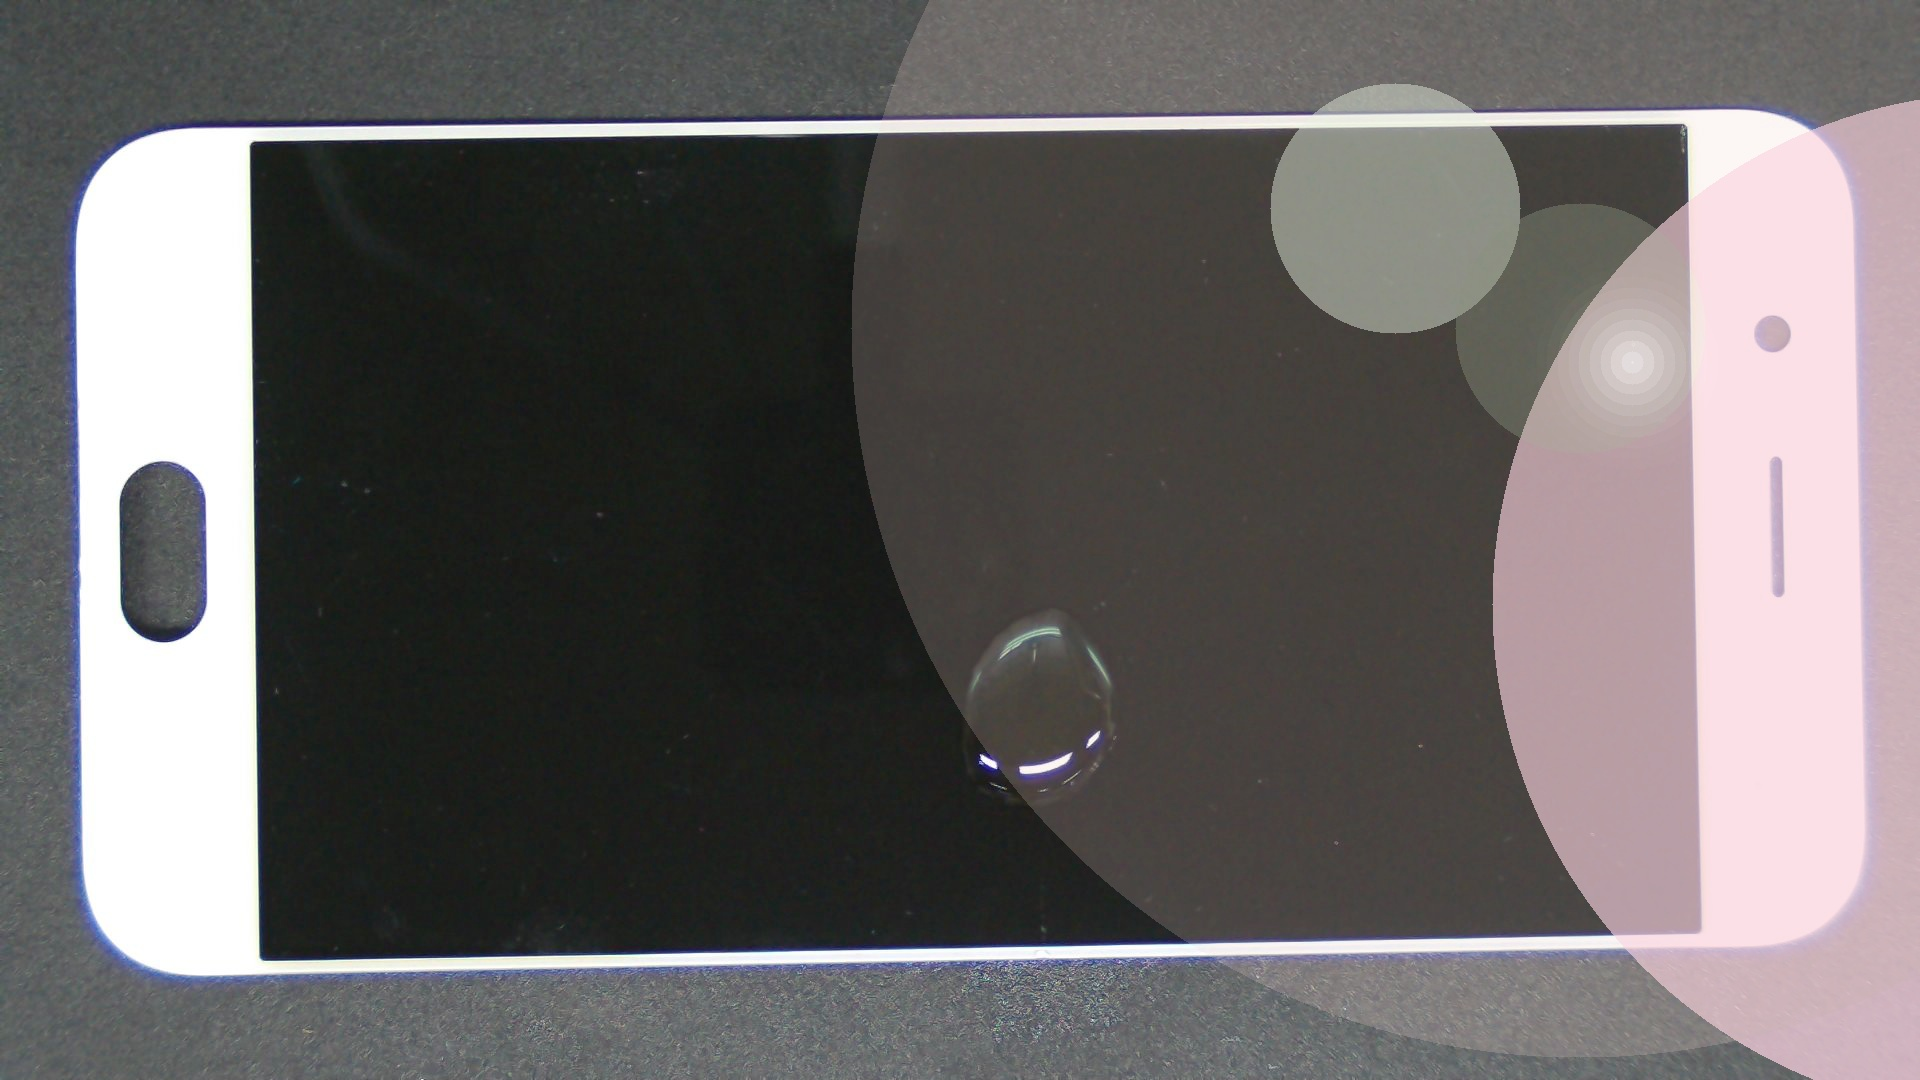oil: (524, 305, 1568, 914)
